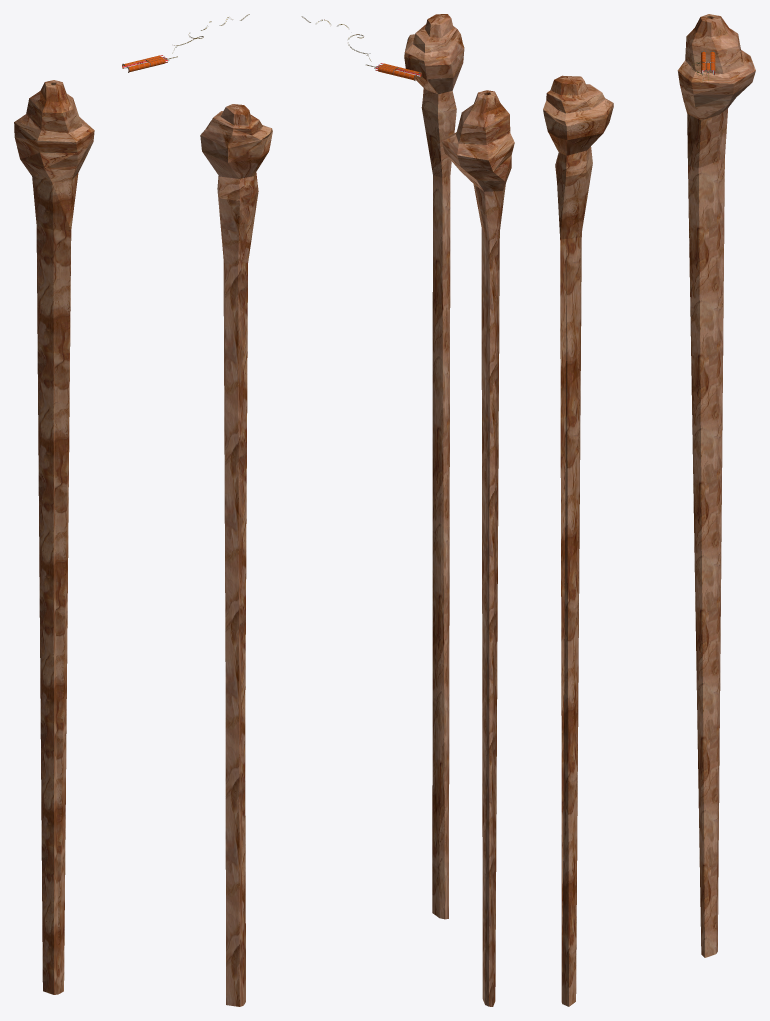
Rendered from 2P_Rail_canyon13.obj.
3 renders of one model, left to right at view 1: azimuth 30°, elevation 25°; view 2: azimuth 150°, elevation 25°; view 3: azimuth 270°, elevation 25°, orthographic. The views are drawn at different scales.
Visible parts, largest first — view 1: Object_2; view 2: Object_2; view 3: Object_2.
Part boxes in pixels (bbox=[...]): Object_2: bbox=[14, 14, 272, 1006]; Object_2: bbox=[301, 14, 514, 1006]; Object_2: bbox=[543, 14, 755, 1006].
Bounding box in the file's own units: 11917 × 49281 × 9839.
